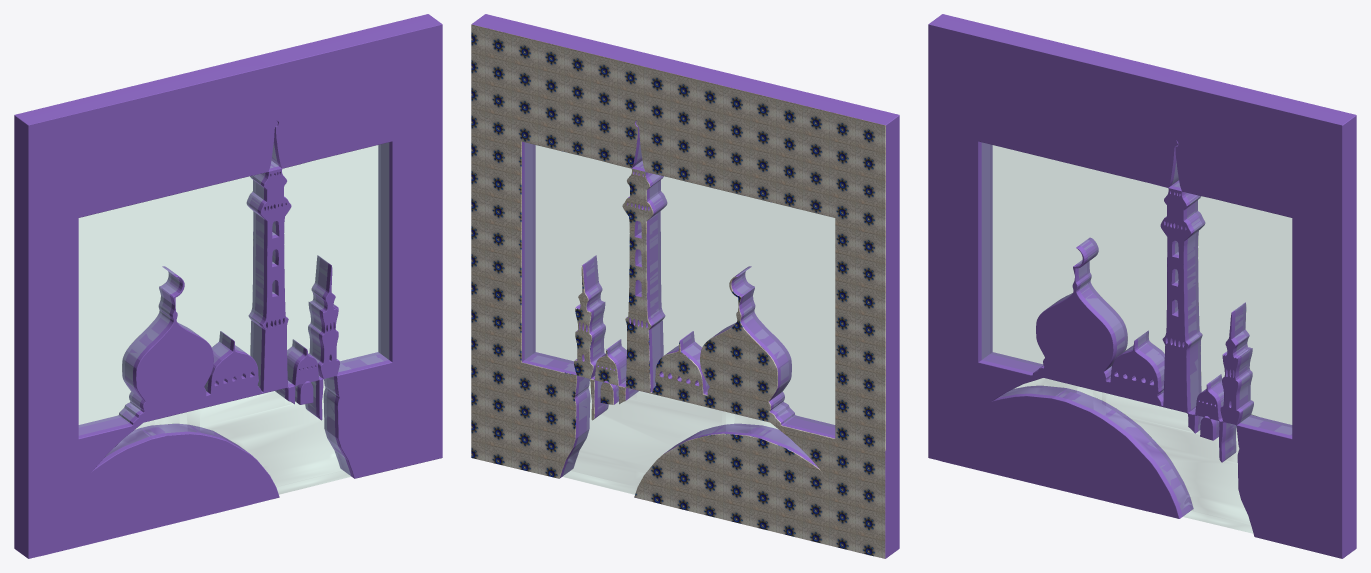
Rendered from right_wall_v6.glb.
3 views of the same model, side by side, from view 1: azimuth 30°, elevation 25°; view 2: azimuth 150°, elevation 25°; view 3: azimuth 330°, elevation 25° (orthographic).
Visible parts, largest first — view 1: RtWall_v4a_3D_MirorX, RTWall_Glass_MirorX; view 2: RtWall_v4a_3D_MirorX, RTWall_Glass_MirorX; view 3: RtWall_v4a_3D_MirorX, RTWall_Glass_MirorX.
Part boxes in pixels (bbox=[...]): RtWall_v4a_3D_MirorX: bbox=[14, 14, 442, 558]; RTWall_Glass_MirorX: bbox=[79, 142, 388, 494]; RtWall_v4a_3D_MirorX: bbox=[471, 14, 899, 558]; RTWall_Glass_MirorX: bbox=[525, 142, 834, 494]; RtWall_v4a_3D_MirorX: bbox=[928, 14, 1356, 558]; RTWall_Glass_MirorX: bbox=[982, 142, 1291, 533].
Size of the model in its own units: 5 by 5 by 0.3003.
Materials: 3 (1 with a texture image).
